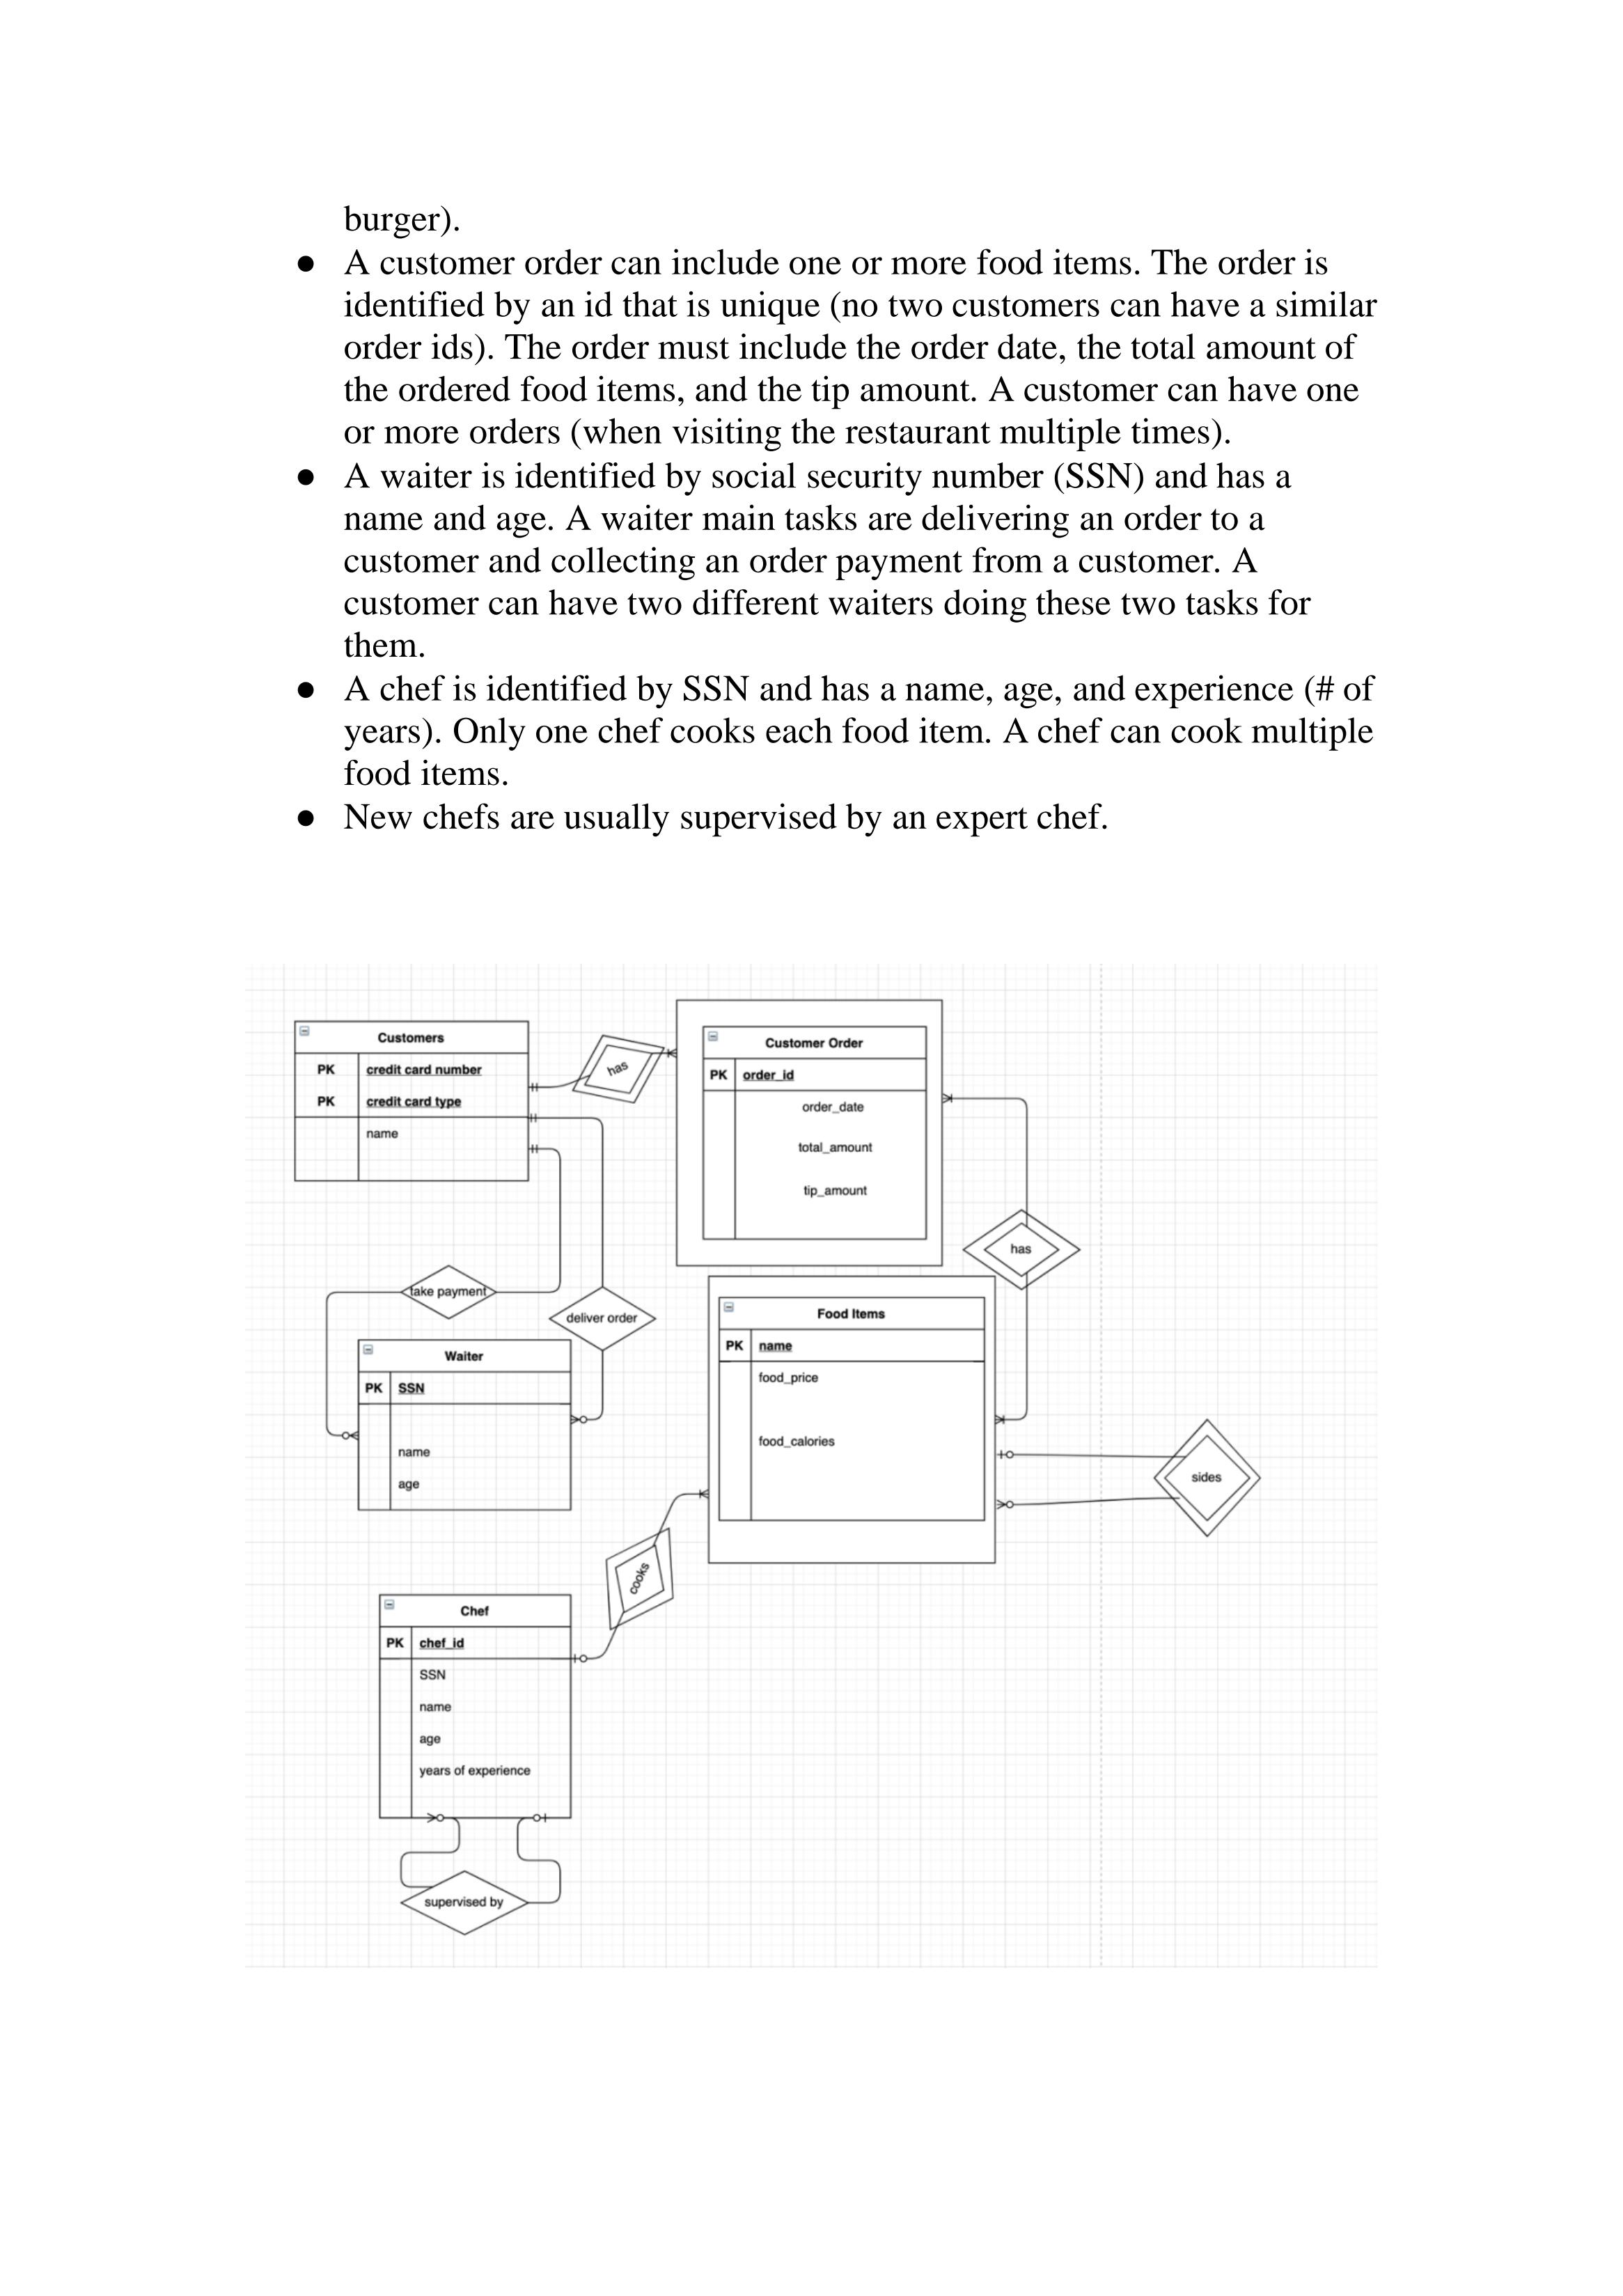Entity: (713, 1288, 991, 1535), (694, 1019, 934, 1247), (372, 1590, 578, 1825), (290, 1015, 534, 1184), (353, 1335, 578, 1516)
Relationship: (1151, 1418, 1263, 1539), (964, 1209, 1084, 1291), (397, 1869, 532, 1938), (602, 1525, 678, 1634), (574, 1031, 667, 1107), (400, 1263, 499, 1321)
